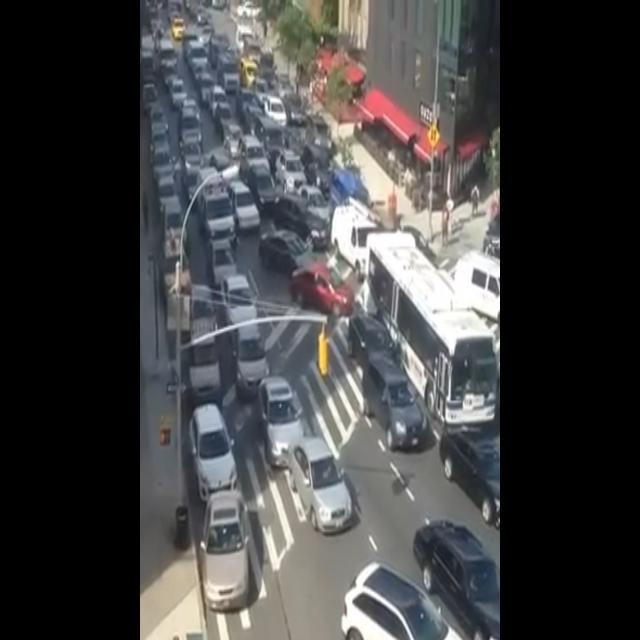Ambulance: (194, 153, 237, 247)
